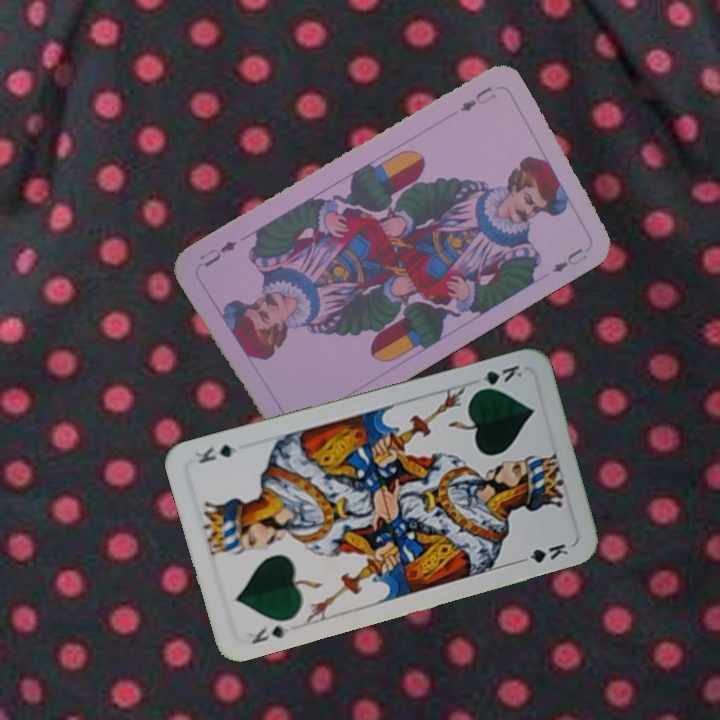EU: (455, 82, 499, 114)
GK: (470, 361, 525, 395), (244, 621, 292, 647)
